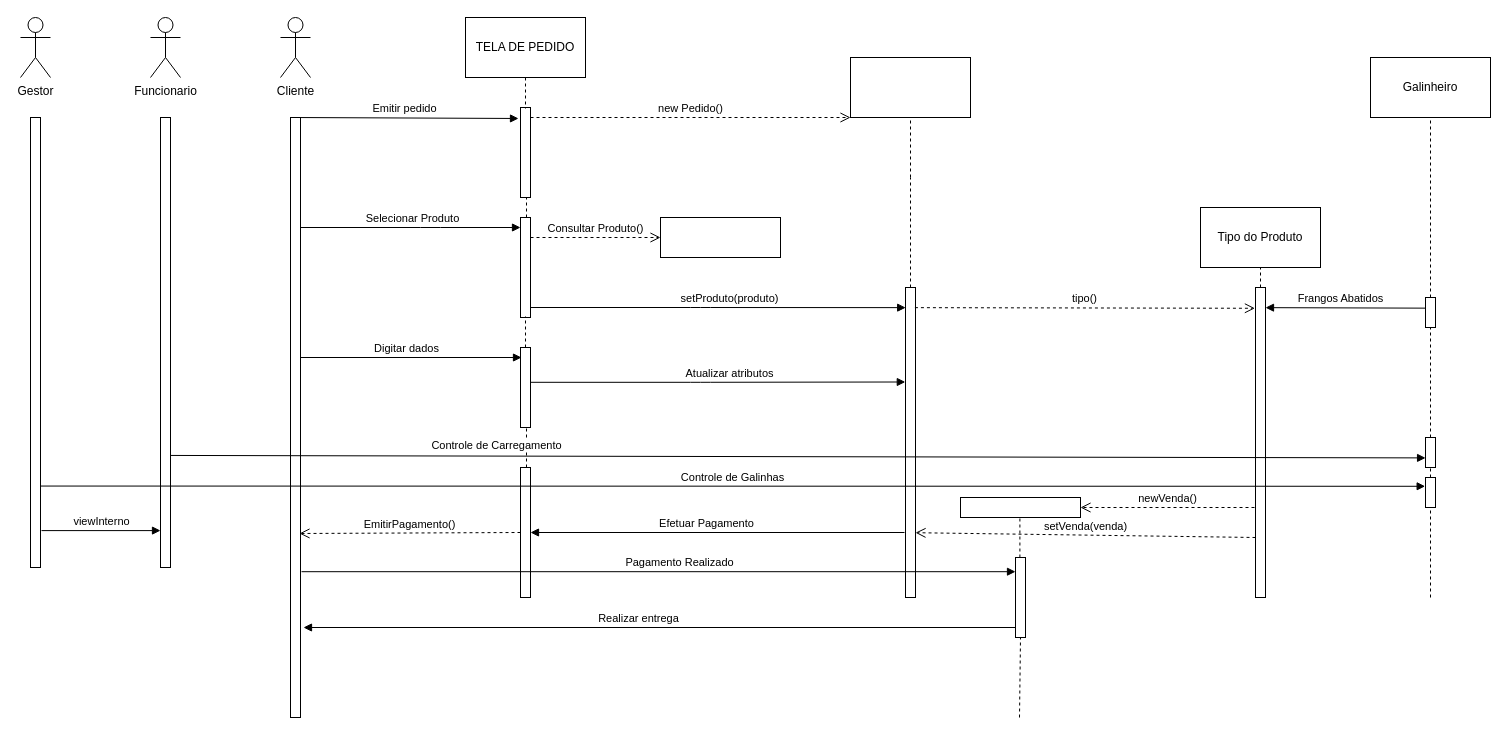
Some shapes in this 1508 by 736 pixel diagram are drawn without their labels. The shapes that lost their labels are listed below. From the top down, each one's box as (x1, y1, x2, y2) in pixels, then its label:
(850, 56, 970, 118): pedido : Pedido
(660, 216, 780, 258): produto : Produto
(960, 496, 1080, 518): venda : Venda
